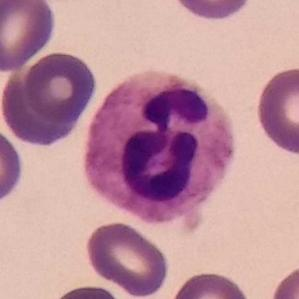Neutrophil: (82, 71, 243, 225)
Platelets: (178, 208, 209, 237)
RBC: (82, 218, 171, 299), (0, 67, 83, 149), (21, 49, 99, 125), (253, 63, 299, 158), (0, 0, 58, 72), (166, 268, 254, 299), (0, 124, 26, 210), (169, 0, 257, 23), (44, 281, 130, 299), (268, 261, 299, 299)
